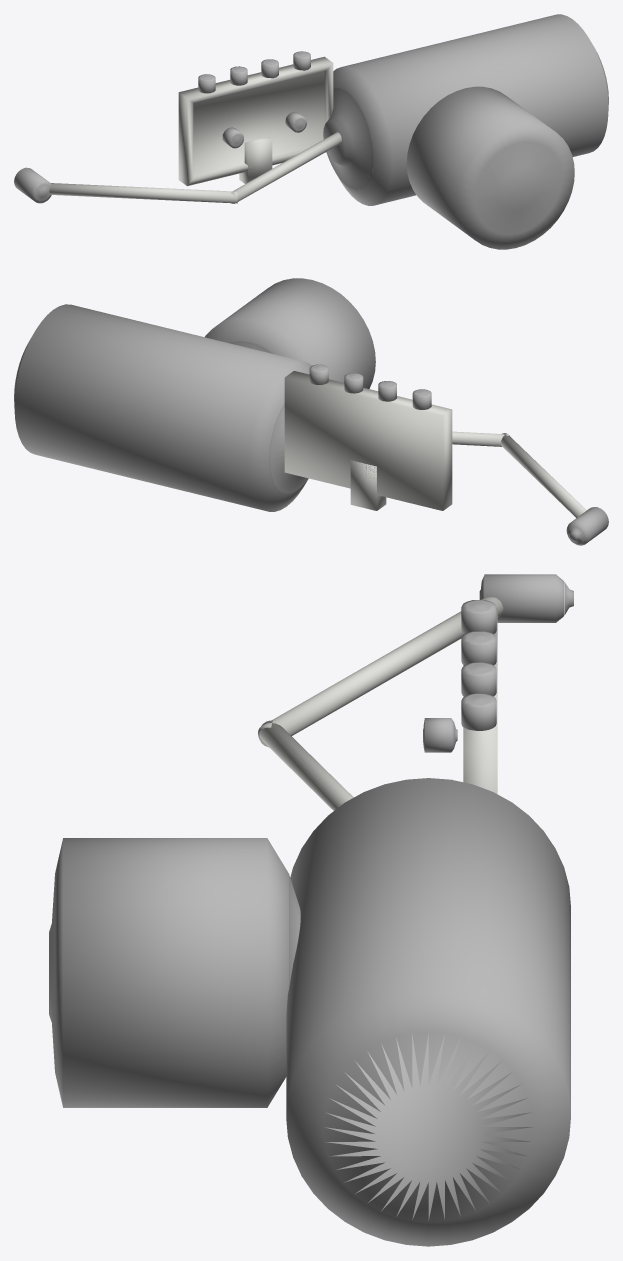
File: iss-kibo.glb
3 renders of one model, top to bottom at view 1: azimuth 30°, elevation 25°; view 2: azimuth 150°, elevation 25°; view 3: azimuth 270°, elevation 25°, orthographic. The views are drawn at different scales.
Visible parts, largest first — view 1: kibo; view 2: kibo; view 3: kibo.
Boxes of the visible parts, box(x1,y1,x2,y2) form: kibo: box(14, 14, 608, 249); kibo: box(14, 278, 608, 545); kibo: box(49, 574, 573, 1246).
Bounding box in the file's own units: 16.21 × 4.22 × 6.77.
1 material, 1 textured.
